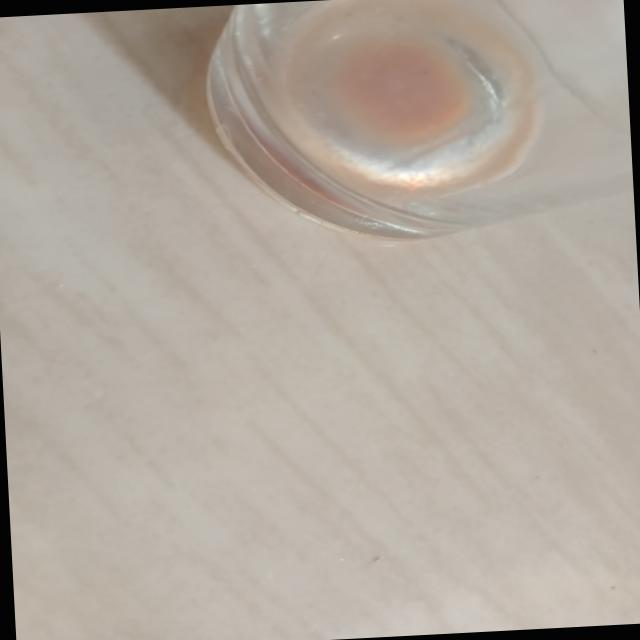glass-VX4N: (197, 0, 635, 248)
